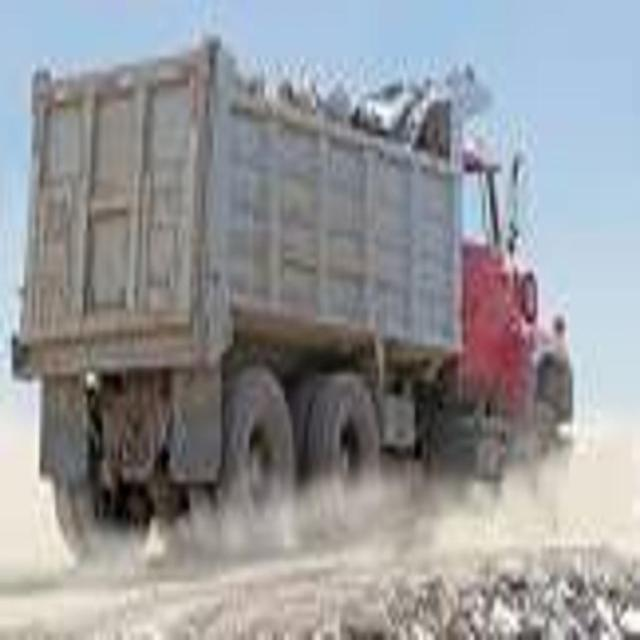dump_truck: (15, 38, 587, 539)
